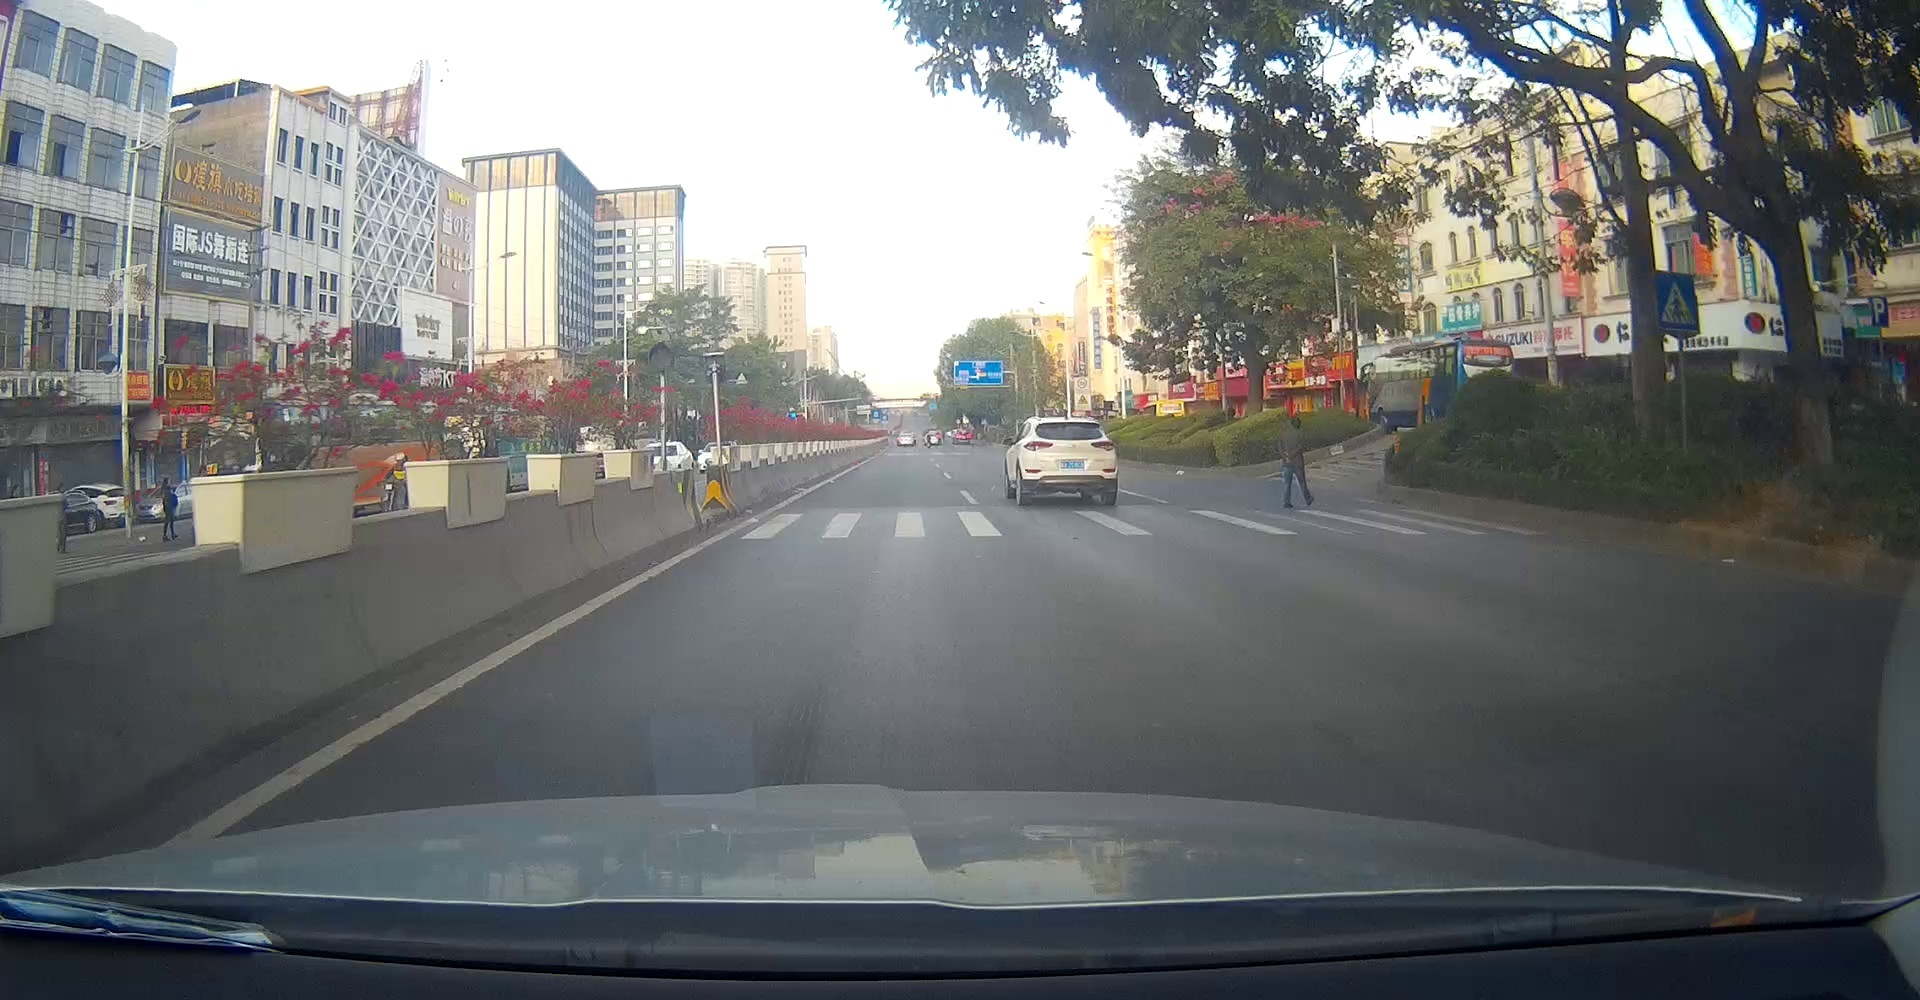L_light: (1023, 440, 1053, 452)
R_light: (1091, 439, 1115, 451)
T_light: (1062, 423, 1074, 425)
day-no: (1021, 418, 1117, 505)
